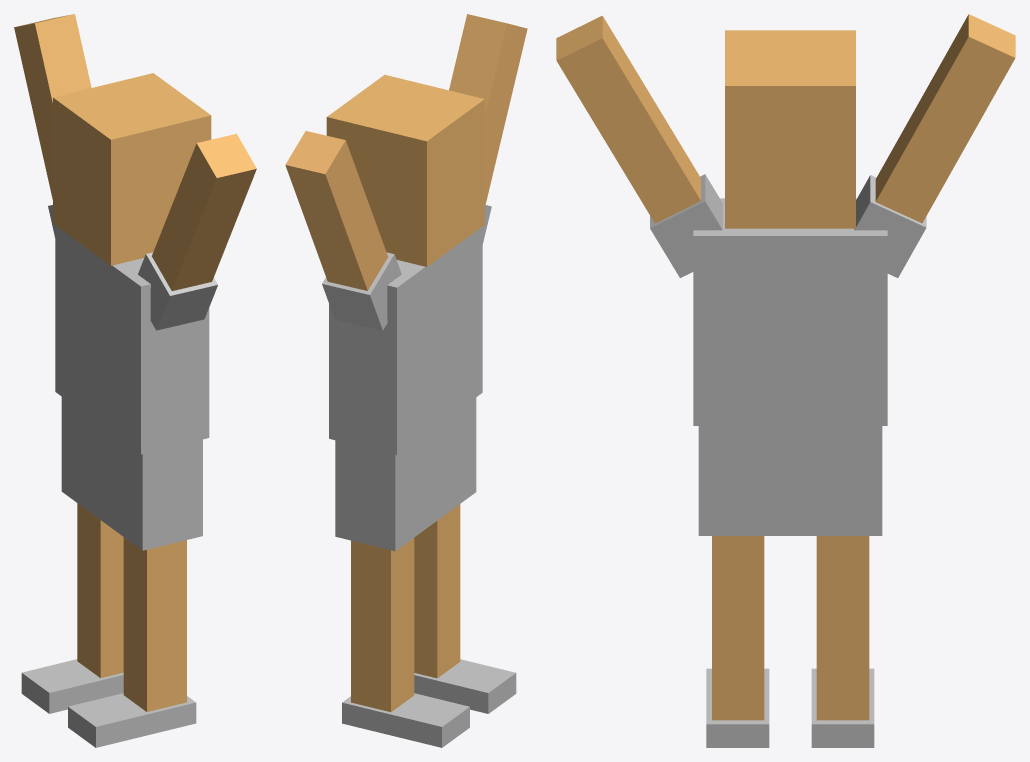
The model's file is human.FBX.
The picture shows the model from 3 angles, left to right: view 1: azimuth 30°, elevation 25°; view 2: azimuth 150°, elevation 25°; view 3: azimuth 270°, elevation 25°; orthographic projection. The views are drawn at different scales.
Visible parts, largest first — view 1: Box006, Box007, Box003, Box002, Box012, Box001, Box009, Box005, Box004, armL; view 2: Box006, Box007, Box003, Box001, Box009, Box002, Box012, Box004, Box005, armR; view 3: Box006, Box007, Box003, Box012, Box009, Box001, Box002, armL, armR, Box005, Box004.
Boxes of the visible parts, x1,y1,x2,y2 form: Box006: (55,225,209,454); Box007: (53,73,211,265); Box003: (61,397,202,550); Box002: (123,537,186,711); Box012: (152,133,256,290); Box001: (77,503,123,678); Box009: (14,14,91,199); Box005: (68,693,196,747); Box004: (21,659,123,713); armL: (138,252,217,330); Box006: (329,226,482,455); Box007: (326,74,484,266); Box003: (335,397,476,551); Box001: (351,538,414,712); Box009: (285,131,387,290); Box002: (414,504,460,678); Box012: (449,14,527,204); Box004: (342,693,469,747); Box005: (414,659,516,713); armR: (322,252,401,330); Box006: (693,198,887,425); Box007: (725,30,855,228); Box003: (698,426,882,535); Box012: (556,15,700,223); Box009: (875,14,1015,223); Box001: (816,536,869,720); Box002: (712,536,764,720); armL: (650,174,722,277); armR: (854,175,926,277); Box005: (706,668,769,747); Box004: (811,668,874,747).
Size of the model in its own units: 12.13 by 58.7 by 34.45.
